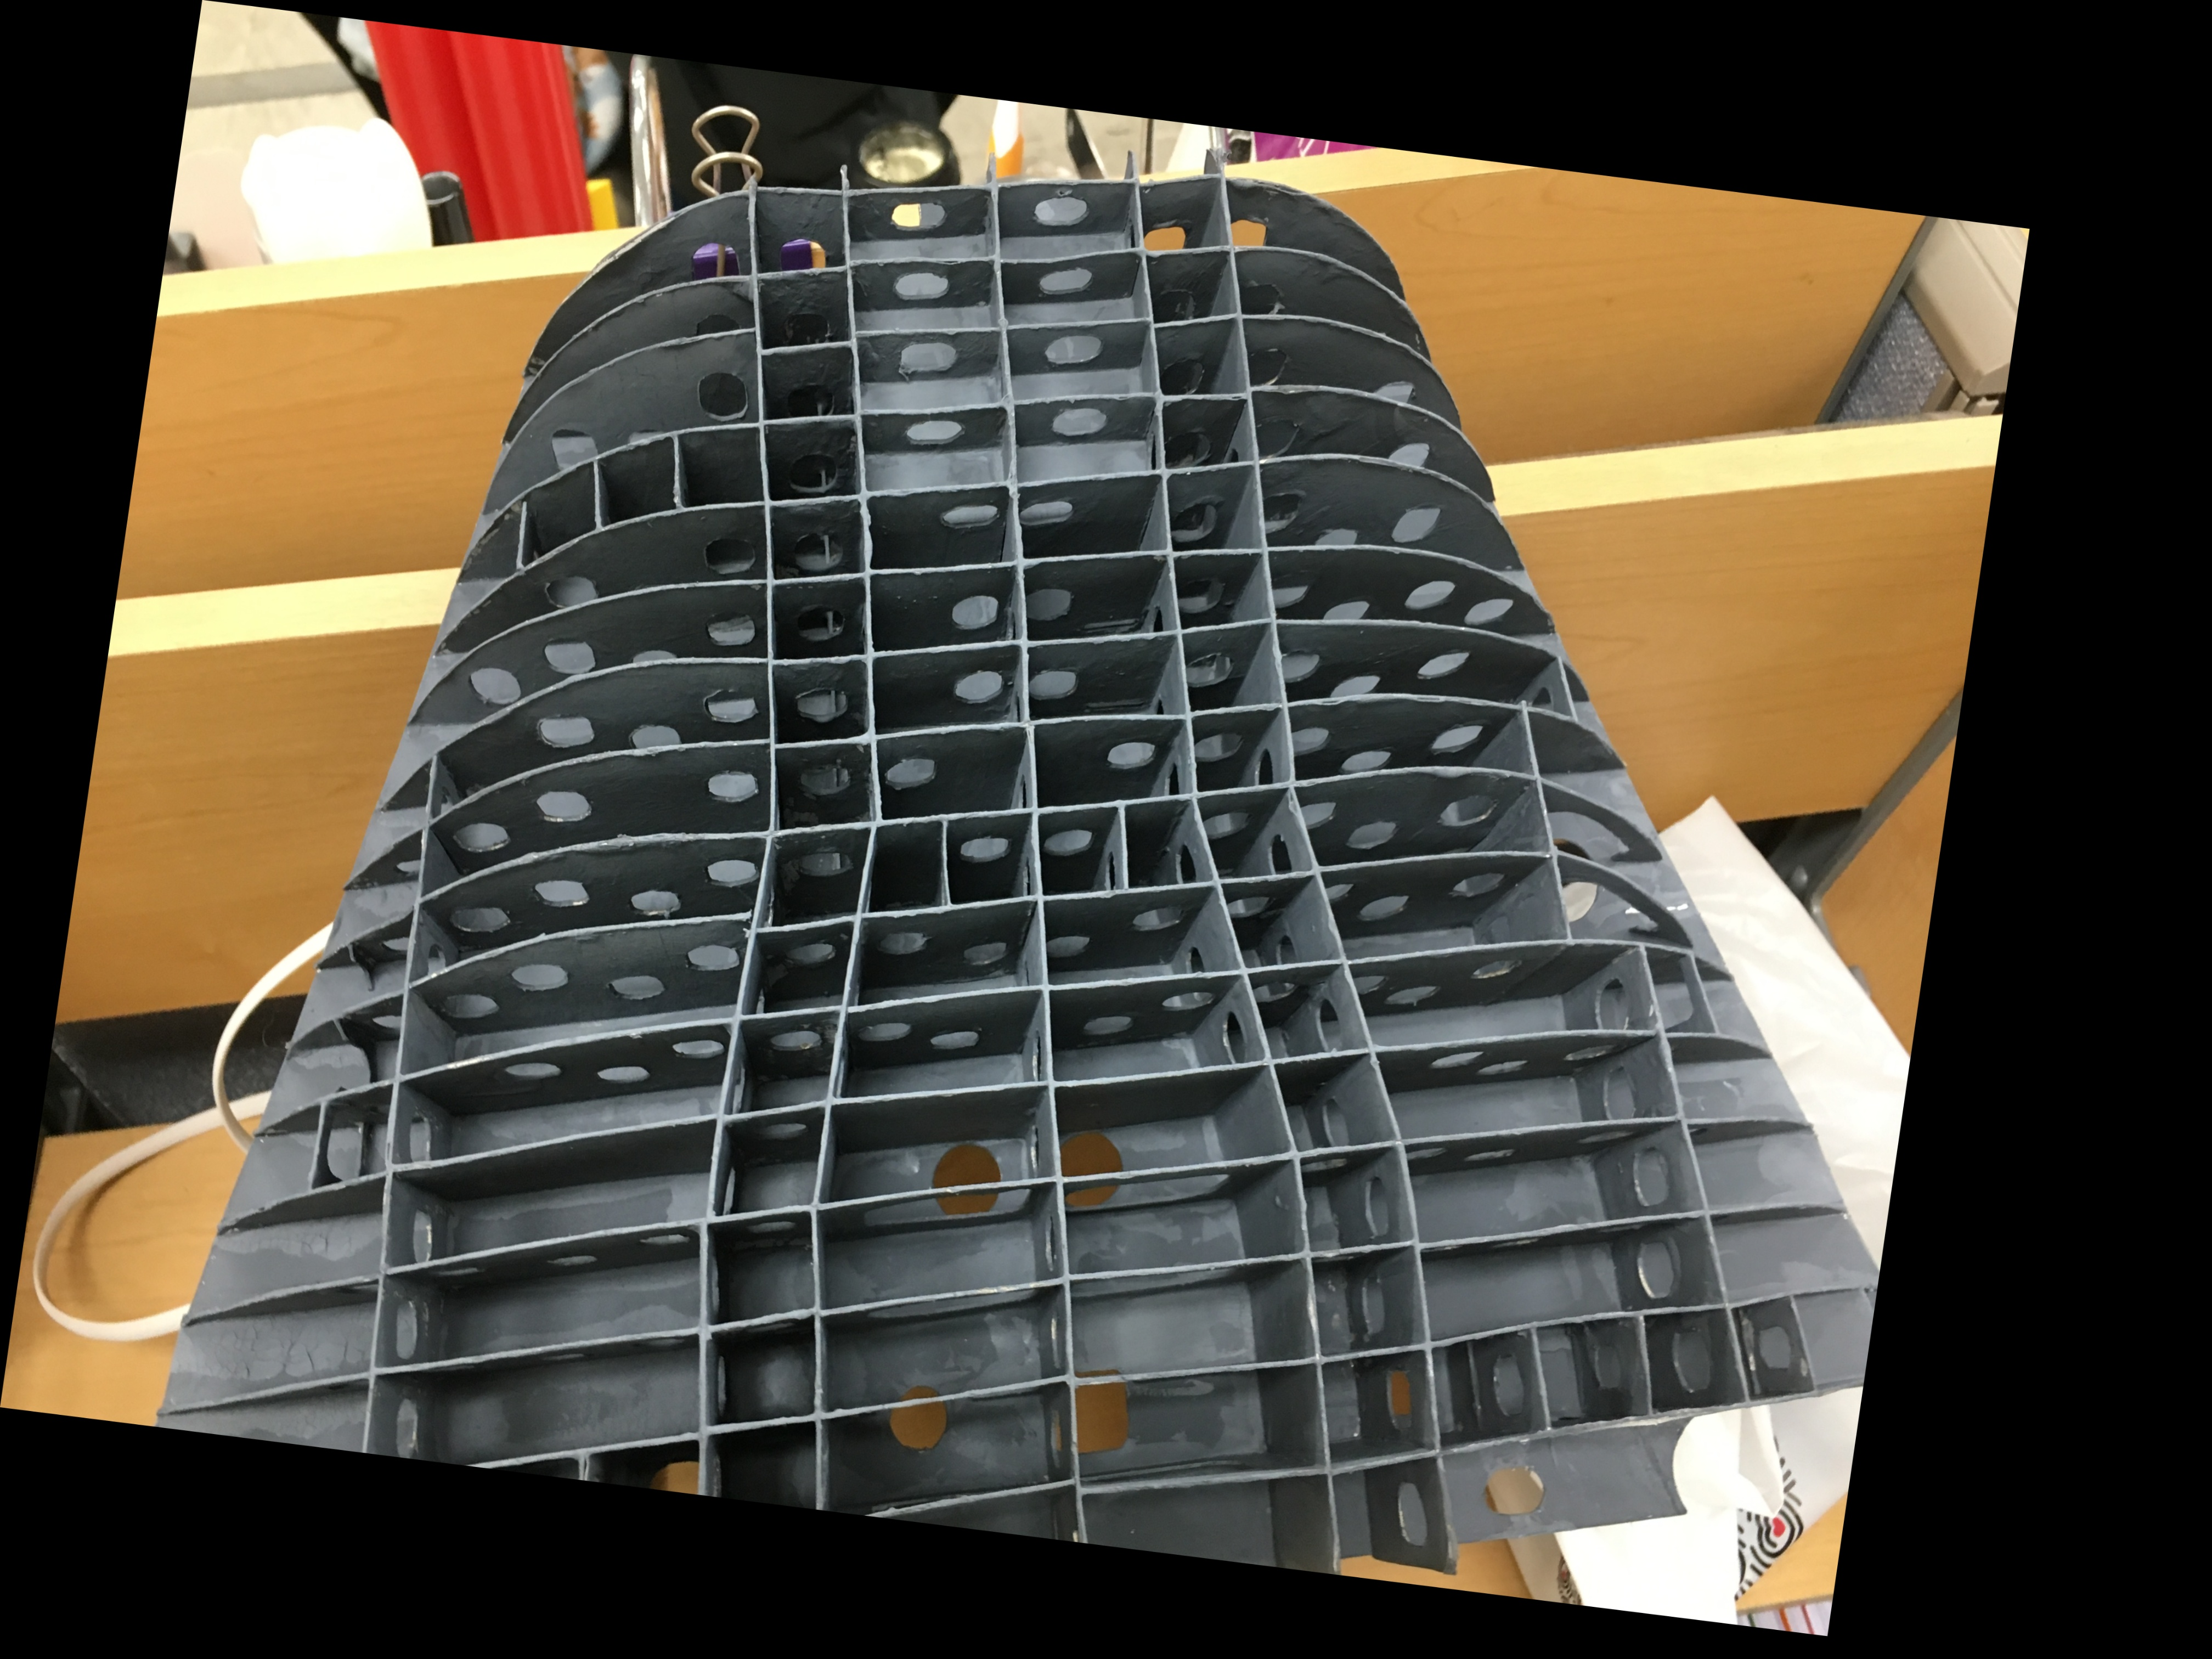A: (120, 35, 2010, 1635)
